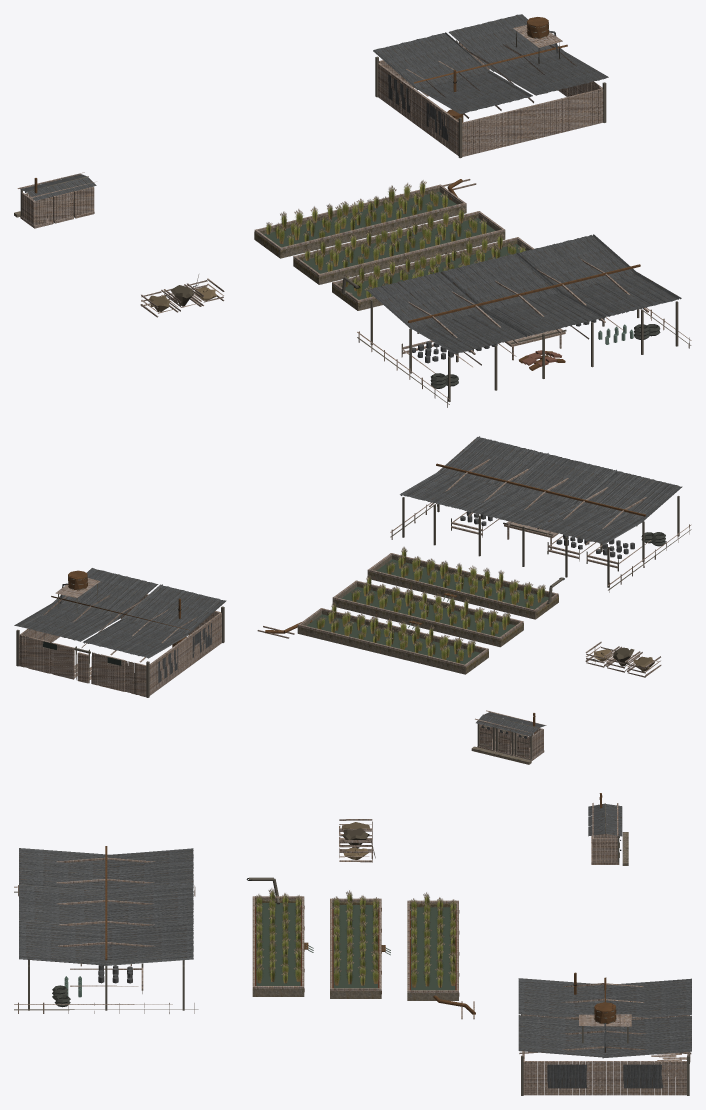
File: sanitation.glb
The picture shows the model from 3 angles, top to bottom: view 1: azimuth 30°, elevation 25°; view 2: azimuth 150°, elevation 25°; view 3: azimuth 270°, elevation 25°; orthographic projection. The views are drawn at different scales.
Parts seen in each view (by area): view 1: trash-sorter:structure, bathhouse:structure, reed-bed:structure, latrine:structure, compost-heap:structure; view 2: trash-sorter:structure, reed-bed:structure, bathhouse:structure, latrine:structure, compost-heap:structure; view 3: trash-sorter:structure, bathhouse:structure, reed-bed:structure, latrine:structure, compost-heap:structure.
Boxes of the visible parts, x1,y1,x2,y2 form: trash-sorter:structure: (357, 234, 691, 407); bathhouse:structure: (373, 14, 608, 158); reed-bed:structure: (254, 179, 533, 310); latrine:structure: (14, 172, 96, 228); compost-heap:structure: (140, 274, 224, 317); trash-sorter:structure: (390, 436, 691, 592); reed-bed:structure: (257, 547, 564, 674); bathhouse:structure: (14, 568, 226, 697); latrine:structure: (471, 710, 546, 764); compost-heap:structure: (585, 641, 661, 677); trash-sorter:structure: (14, 846, 198, 1013); bathhouse:structure: (518, 972, 691, 1095); reed-bed:structure: (246, 877, 475, 1019); latrine:structure: (588, 793, 628, 865); compost-heap:structure: (339, 819, 375, 862).
Bounding box in the file's own units: 50.21 × 6.88 × 54.35.
19 materials, 7 textured.
